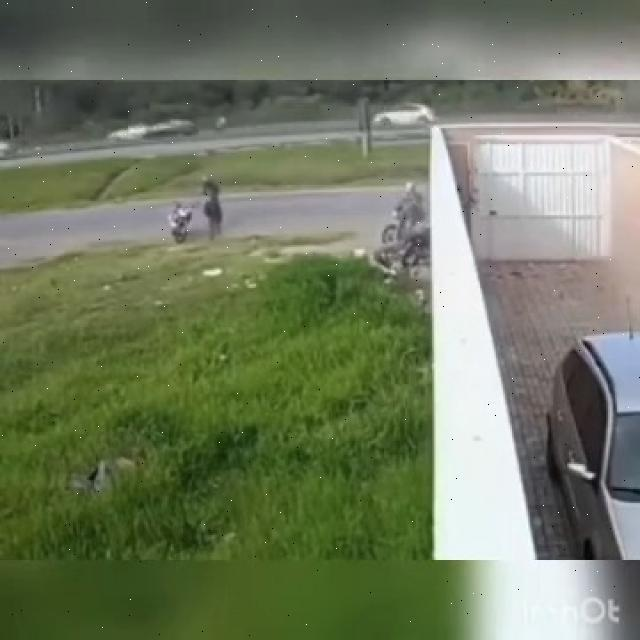accident: (372, 217, 444, 274)
